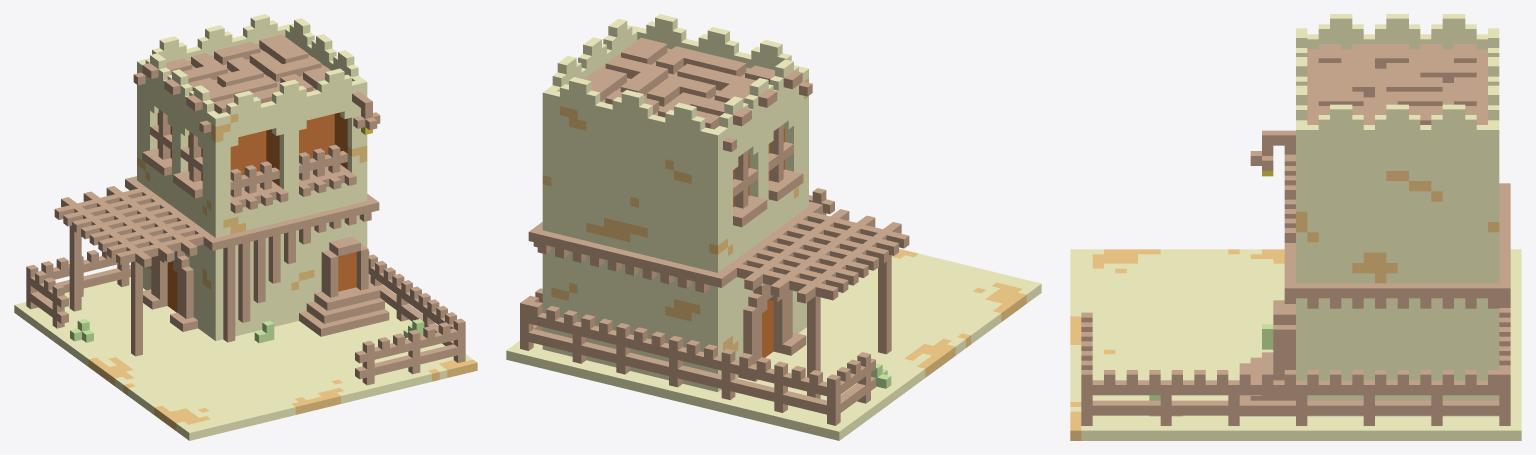
The model's file is Outpost.glb.
The picture shows the model from 3 angles, left to right: view 1: azimuth 30°, elevation 25°; view 2: azimuth 150°, elevation 25°; view 3: azimuth 270°, elevation 25°; orthographic projection. The views are drawn at different scales.
Parts seen in each view (by area): view 1: Node; view 2: Node; view 3: Node.
Part boxes in pixels (box(x1,y1,x2,y2)): Node: box(14, 14, 477, 440); Node: box(506, 14, 1041, 440); Node: box(1070, 14, 1521, 440).
Bounding box in the file's own units: 3.8 × 3.1 × 4.
Materials: 1 (1 with a texture image).
